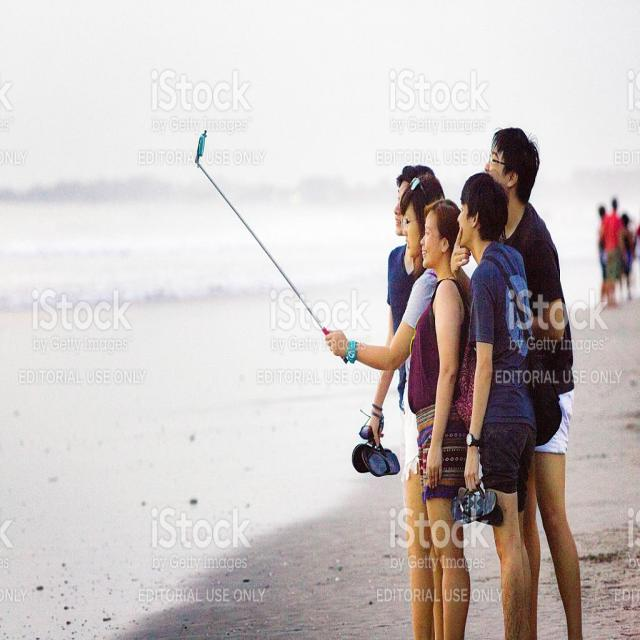body: (324, 171, 444, 640), (482, 123, 585, 640), (448, 169, 541, 639), (406, 194, 478, 639), (366, 161, 434, 447), (598, 198, 626, 309), (616, 210, 636, 301), (597, 204, 611, 280), (632, 209, 640, 309)
